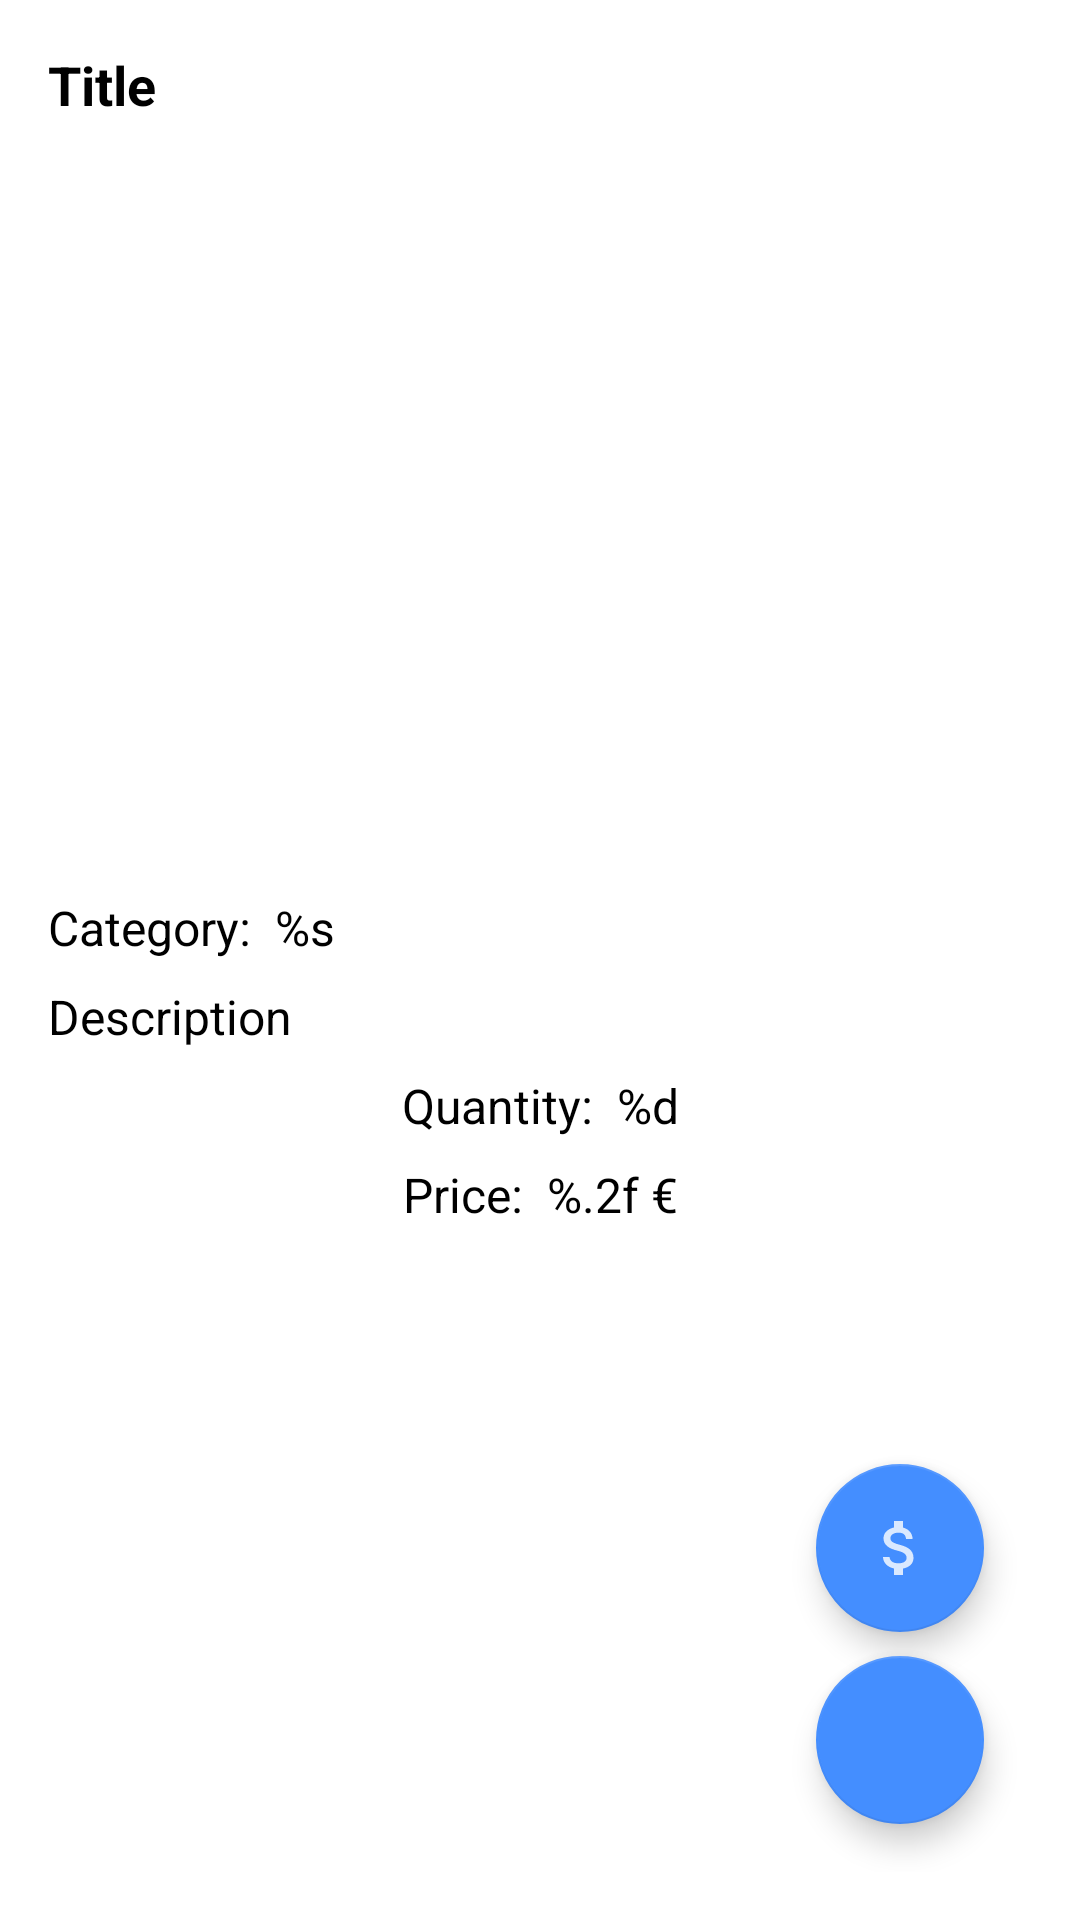

Icon click points for this 1080px x 1920px phone screenshot, format (x=x, y=y):
attach money: (x=900, y=1548)
